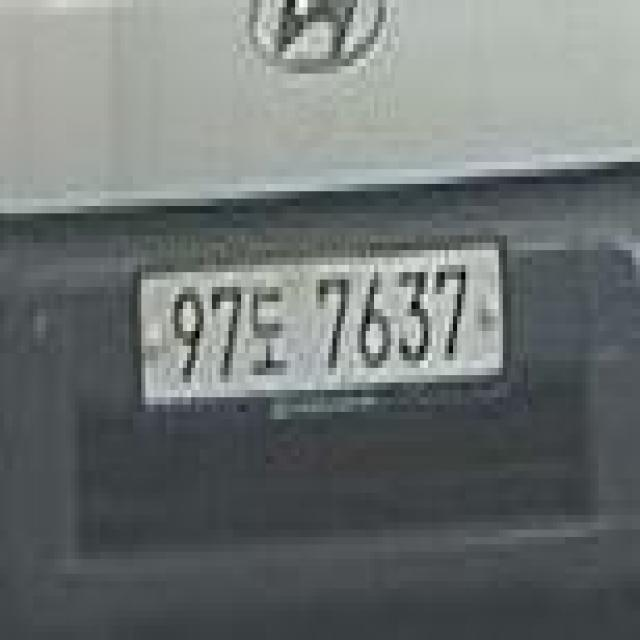3: (395, 264, 433, 378)
6: (356, 264, 394, 378)
7: (310, 264, 352, 378), (436, 260, 472, 368), (211, 278, 246, 381)
9: (168, 284, 208, 388)
do: (250, 276, 293, 384)
license_plate: (141, 243, 505, 412)
